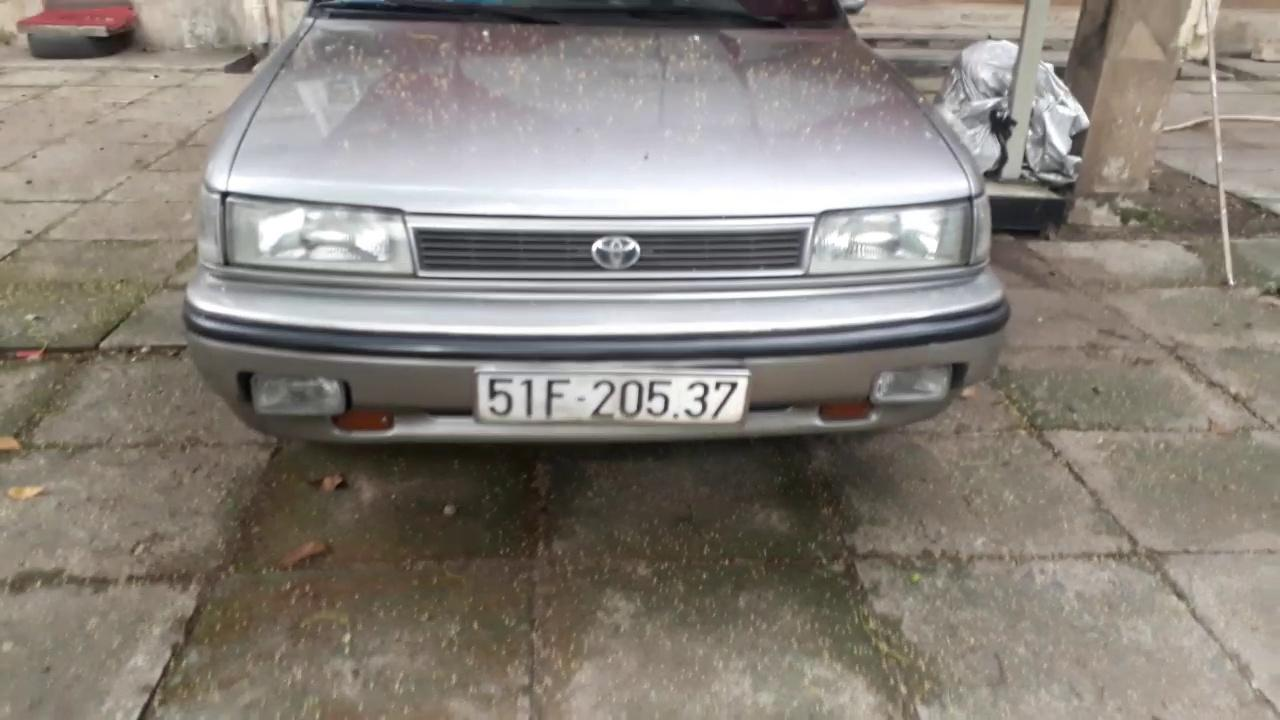numplate: (476, 368, 752, 424)
